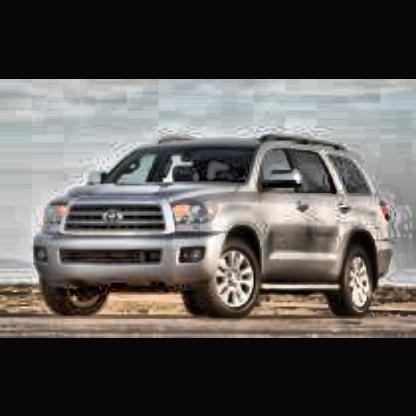Toyota Sequoia SUV 2012: (30, 130, 394, 322)
